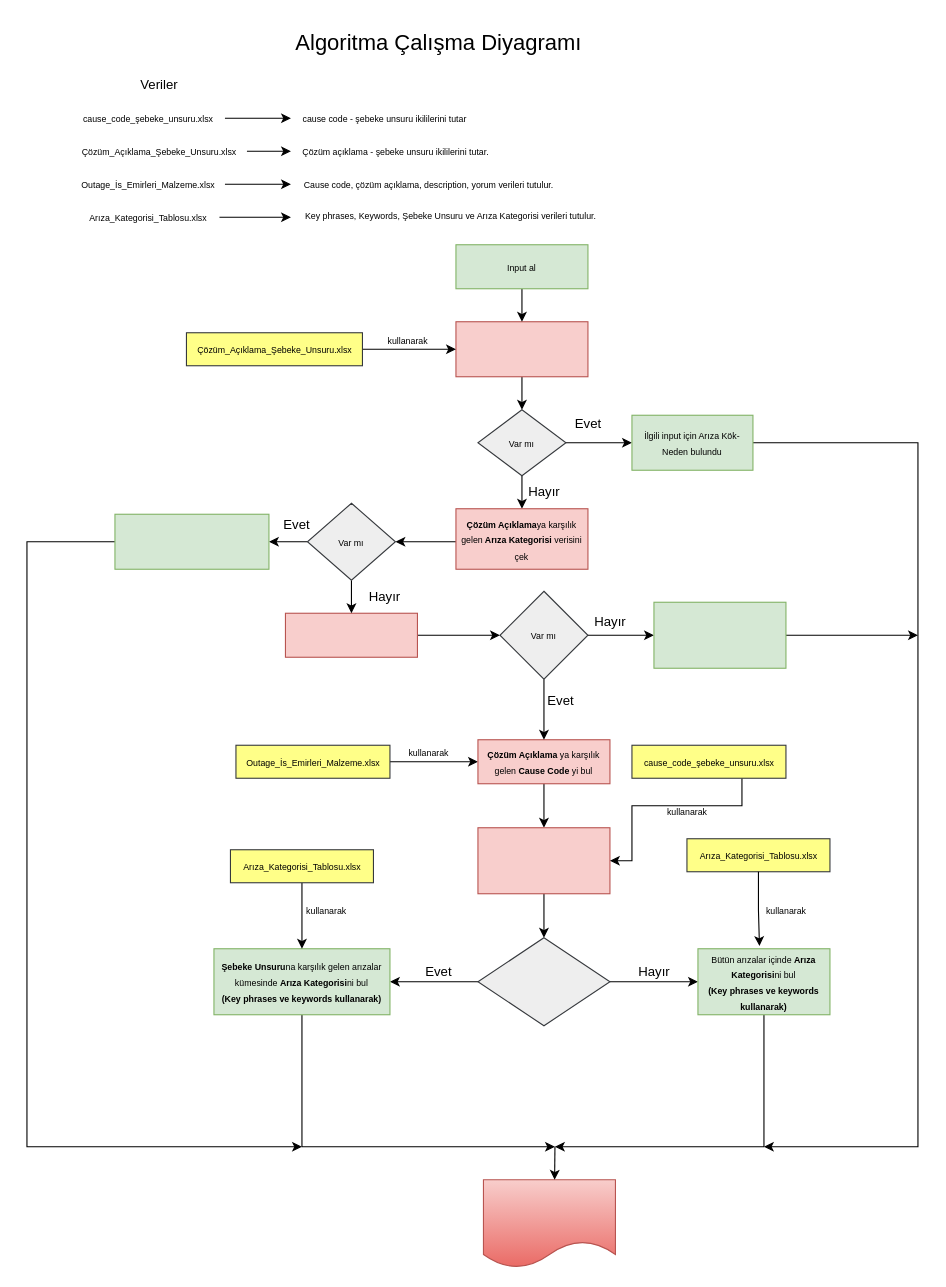
The diagram is 946 pixels wide and 1287 high, and some of its shapes have lost their labels. The centre of each missing label's shape, as x and y in pixels:
"Aynı Şebeke Unsuru mu" belongs at [543,981].
"Bitir" belongs at [548,1223].
"Bütün arıza kategorilerini kullanarak kategoriyi belirle" belongs at [719,634].
"Input a karşılık gelen Çözüm Açıklama yı bul. Arıza Kök-Neden verisini çek" belongs at [521,349].
"İlgili input için Arıza Kategori si bulundu" belongs at [191,541].
"Çözüm Açıklama ya ve Cause Code ye karşılık gelen Şebeke Unsuru nu bul." belongs at [543,860].
"Şebeke Unsuru verisini çek" belongs at [350,634].
